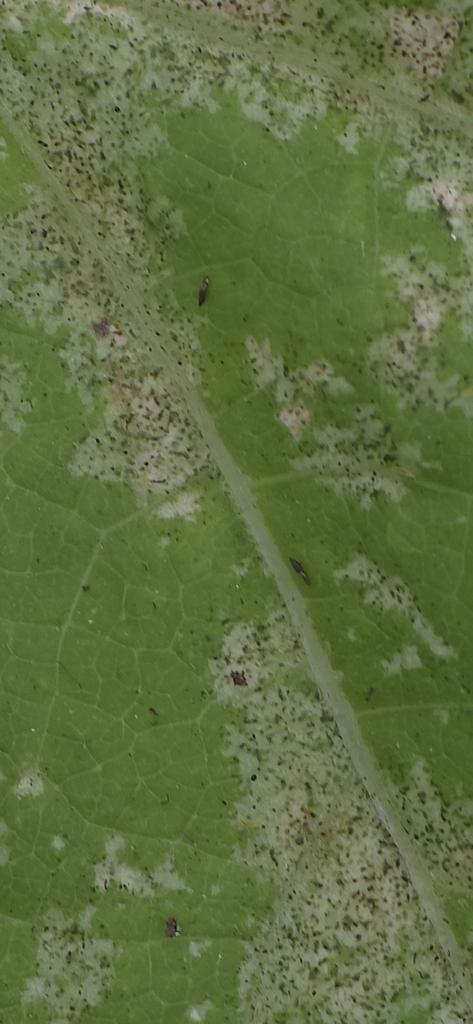tiny_pests: (283, 548, 320, 594), (190, 267, 219, 311)
